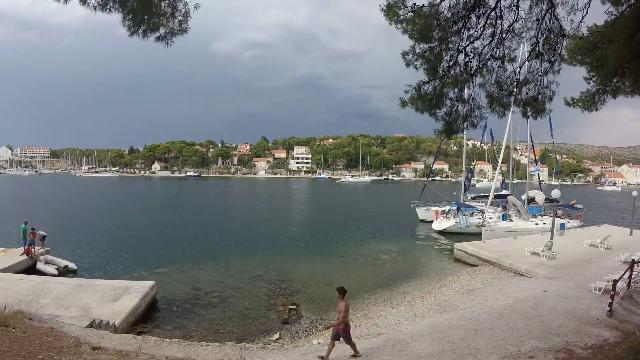Sailboat: (336, 172, 376, 186)
